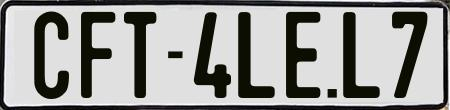4: (191, 9, 233, 100)
7: (390, 12, 429, 100)
C: (33, 11, 72, 104)
E: (285, 9, 323, 99)
F: (81, 12, 118, 99)
L: (343, 11, 384, 102), (237, 12, 276, 99)
T: (122, 11, 160, 102)
